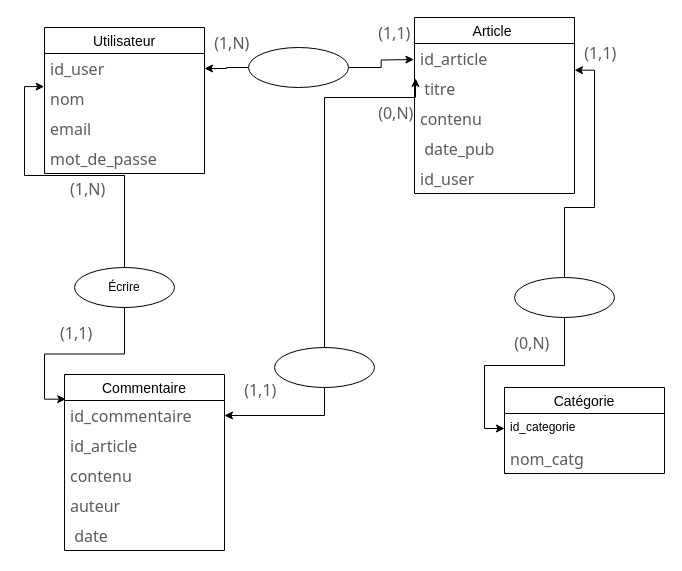
The diagram is 682 pixels wide and 571 high, and some of its shapes have lost their labels. Here are the shapes that lost their labels. From the top down, the centre of each, then its label:
the point at 298,67: créer
the point at 564,297: Appartient à
the point at 324,367: reçoit
